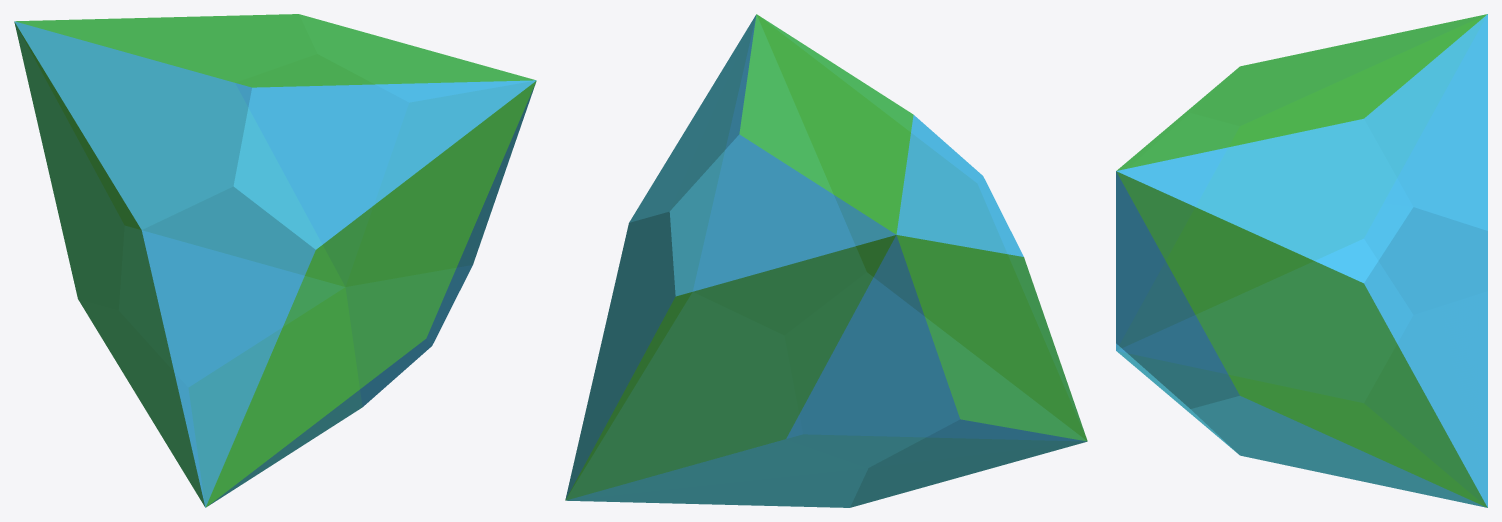
File: JoinedTruncatedTetrahedron.obj
3 renders of one model, left to right at view 1: azimuth 30°, elevation 25°; view 2: azimuth 150°, elevation 25°; view 3: azimuth 270°, elevation 25°, orthographic. The views are drawn at different scales.
Bounding box in the file's own units: 2.12 × 2.12 × 2.12.
